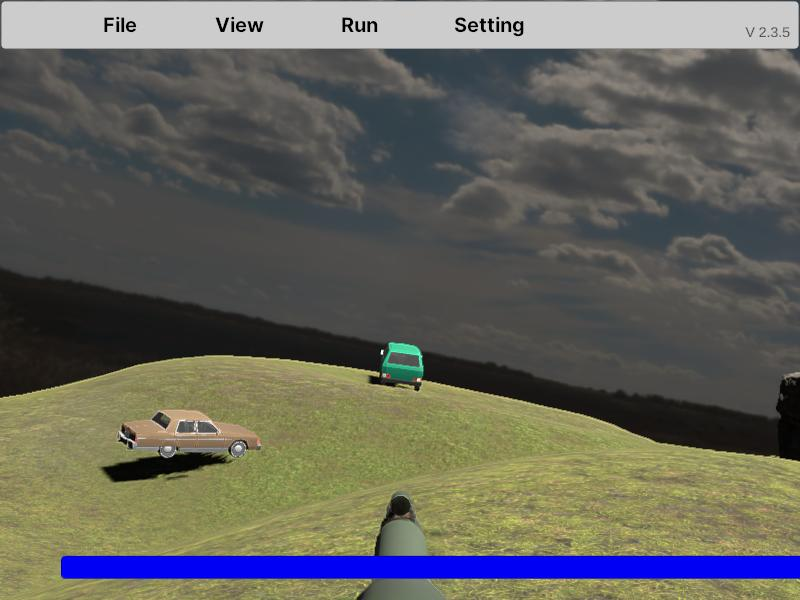car: (118, 408, 262, 463), (379, 341, 424, 392)
